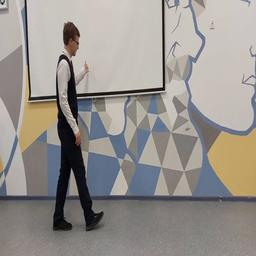person: (53, 22, 104, 231)
